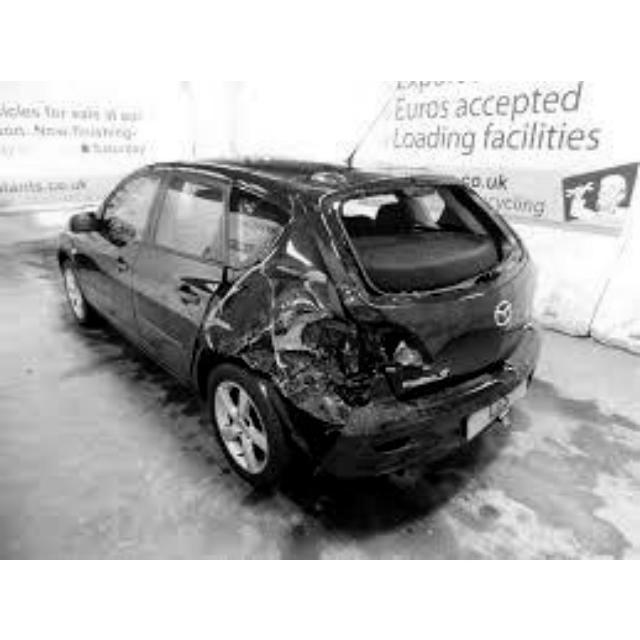Rear-windscreen-Damage: (378, 189, 516, 297)
boot-dent: (388, 313, 526, 399)
quaterpanel-dent: (223, 268, 363, 408)
roof-dent: (233, 152, 420, 186)
